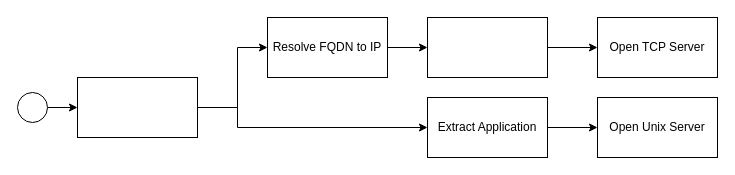
The diagram is 735 pixels wide and 175 high, and some of its shapes have lost their labels. The shapes that lost their labels are listed below. From the top down, each one's centre as x and y in pixels, then its label:
pixel 487 47: Resolve Port to Integer
pixel 137 107: Read DEFCOM File
